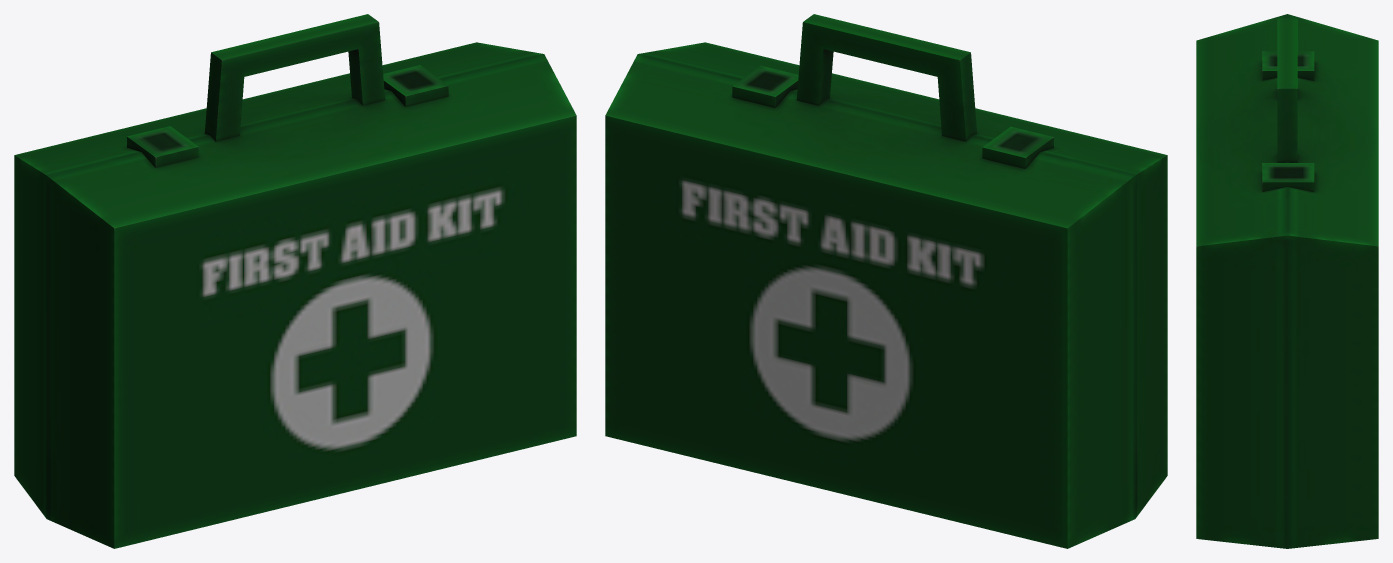
The model's file is FirstAidKit.fbx.
3 views of the same model, side by side, from view 1: azimuth 30°, elevation 25°; view 2: azimuth 150°, elevation 25°; view 3: azimuth 270°, elevation 25° (orthographic). The views are drawn at different scales.
Parts seen in each view (by area): view 1: FirstAidKit; view 2: FirstAidKit; view 3: FirstAidKit.
Boxes of the visible parts, x1,y1,x2,y2 form: FirstAidKit: [14, 14, 576, 548]; FirstAidKit: [605, 14, 1167, 548]; FirstAidKit: [1196, 14, 1378, 548].
Bounding box in the file's own units: 43.05 × 34.83 × 15.
